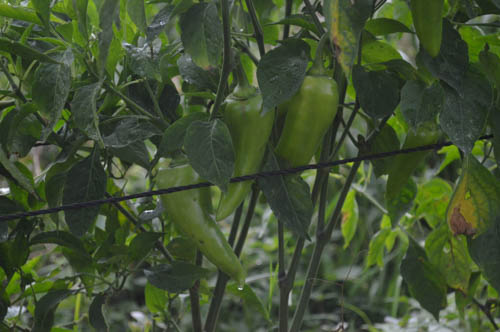ChiliPepper: (158, 169, 244, 286), (220, 91, 272, 224), (282, 77, 339, 171), (391, 125, 436, 200)
